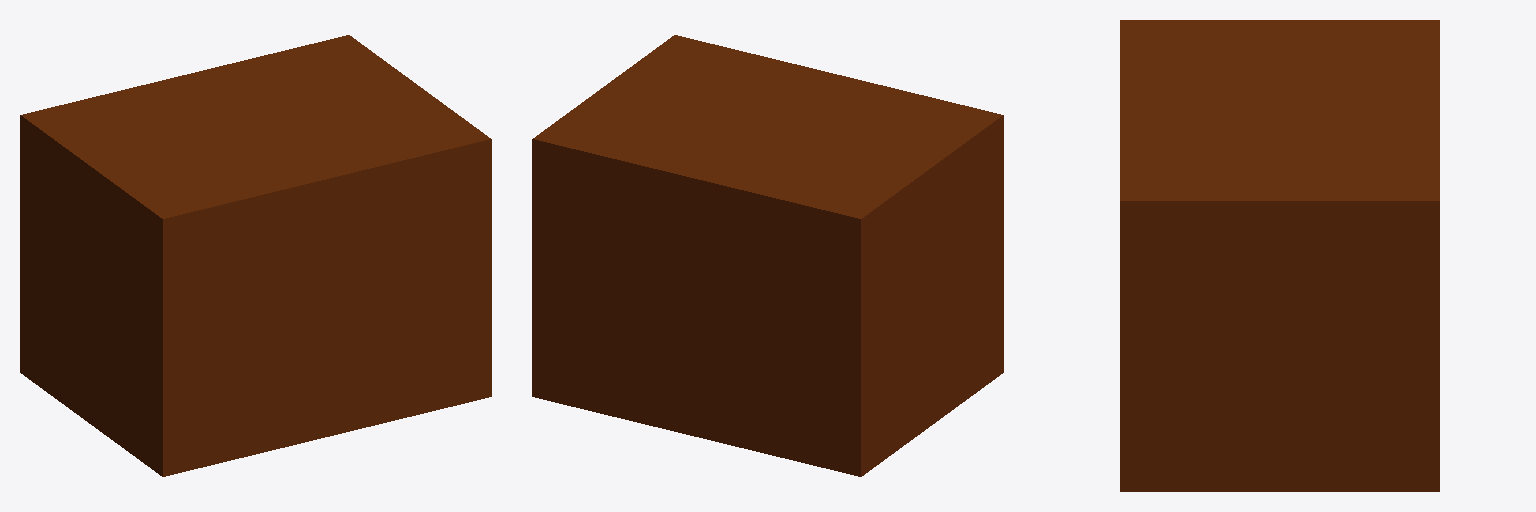
URDF robot description (boite_plastique):
<?xml version="1.0"?>
<robot name="boite_plastique">
  <link name="base">
    <visual>
      <origin xyz="0 0 0" rpy="0 0 0"/>
      <geometry><box size="0.4 0.3 0.3"/></geometry>
      <material name="brown"><color rgba="0.45 0.22 0.08 1.0"/></material>
    </visual>
    <collision>
      <origin xyz="0 0 0" rpy="0 0 0"/>
      <geometry><box size="0.4 0.3 0.3"/></geometry>
    </collision>
    <inertial>
      <mass value="0.5"/>
      <inertia ixx="1e-3" ixy="0" ixz="0" iyy="1e-3" iyz="0" izz="1e-3"/>
    </inertial>
  </link>
</robot>

--- What the picture shows (computed from the rendered views, not written in the file) ---
3 views of the same robot in one strip: view 1: azimuth 30°, elevation 25°; view 2: azimuth 150°, elevation 25°; view 3: azimuth 270°, elevation 25° (orthographic).
Robot: boite_plastique — 1 links, 0 joints (none); root link base; default pose: every joint at zero.
Links seen in each view (by area): view 1: base; view 2: base; view 3: base.
Link boxes in pixels (x1,y1,x2,y2): base: (20,35,491,476); base: (532,35,1003,476); base: (1120,20,1439,491).
Bounding box of the posed robot: 0.4 × 0.3 × 0.3 m (x, y, z).
Geometry: primitives only (box / cylinder / sphere), no mesh files.
